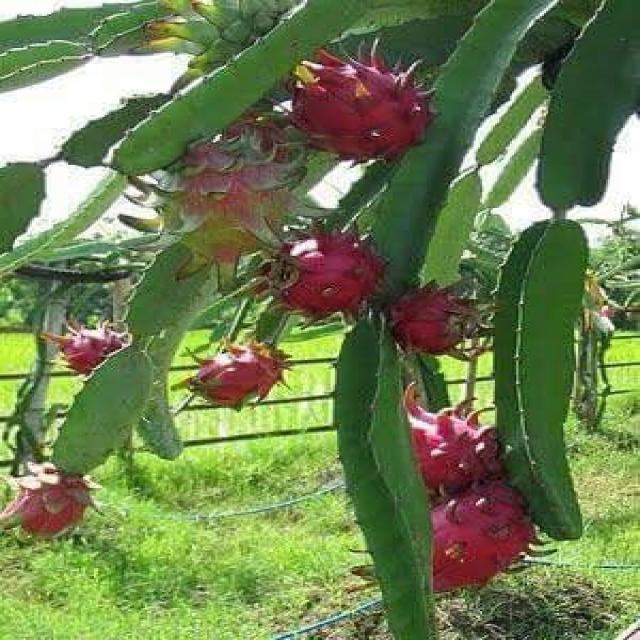Thanh Long: (139, 125, 312, 283), (286, 40, 433, 163), (429, 482, 541, 588), (269, 225, 384, 318), (394, 381, 506, 473), (175, 338, 290, 408), (388, 282, 484, 355), (17, 461, 90, 534), (55, 318, 145, 364)
